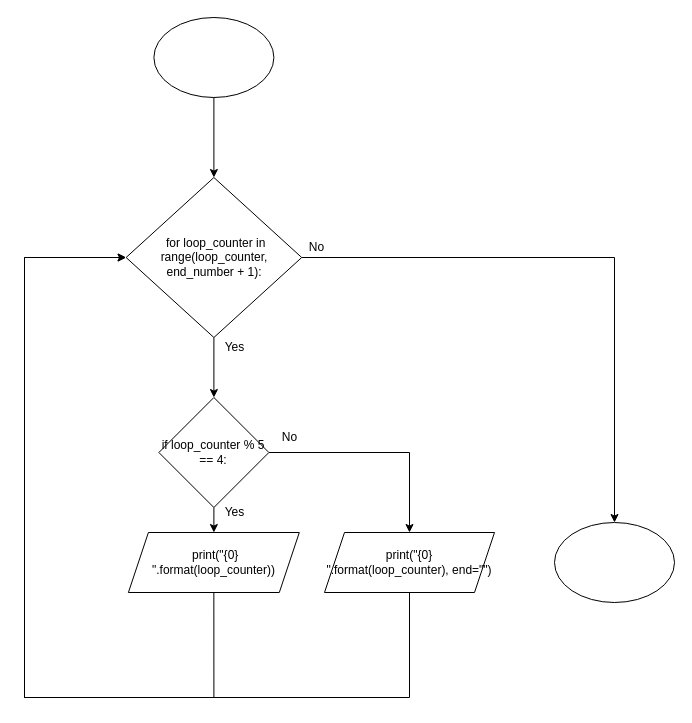
Some shapes in this 692 by 723 pixel diagram are drawn without their labels. The shapes that lost their labels are listed below. From the top down, each one's centre as x and y in pixels, then its label:
At pixel 213 57: "Start".
At pixel 614 562: "Stop".
